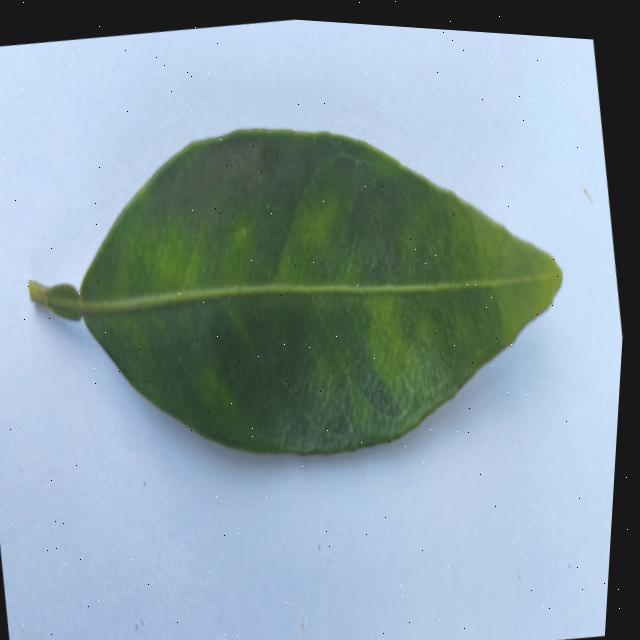greening: (28, 131, 561, 455)
